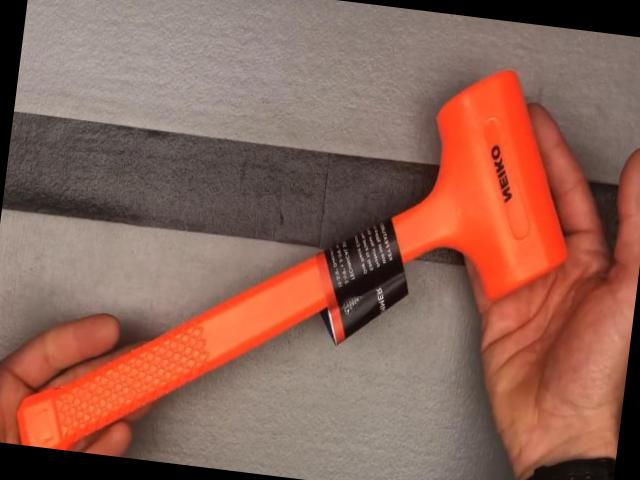hammer: (11, 14, 590, 480)
